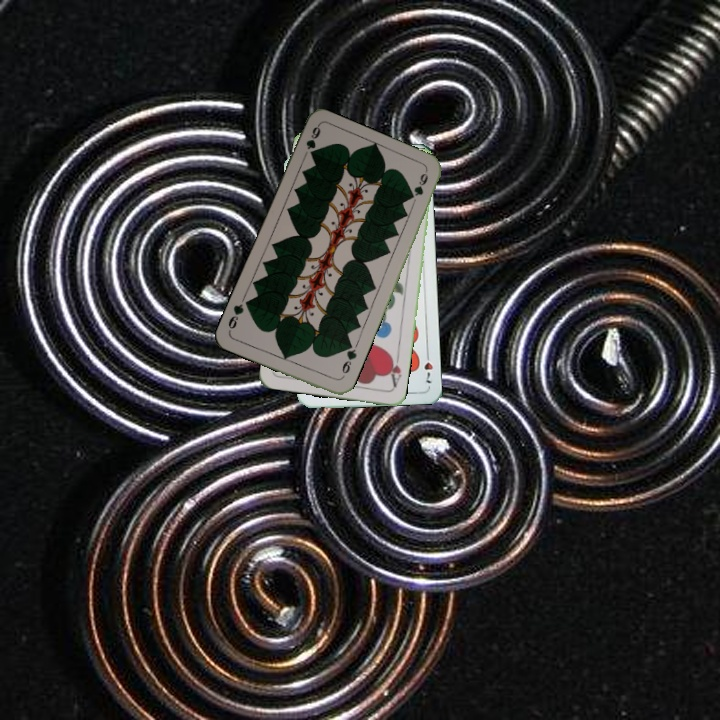G9: (337, 341, 359, 381), (302, 122, 323, 159)
H7: (420, 347, 435, 386)
HA: (384, 350, 404, 390)
